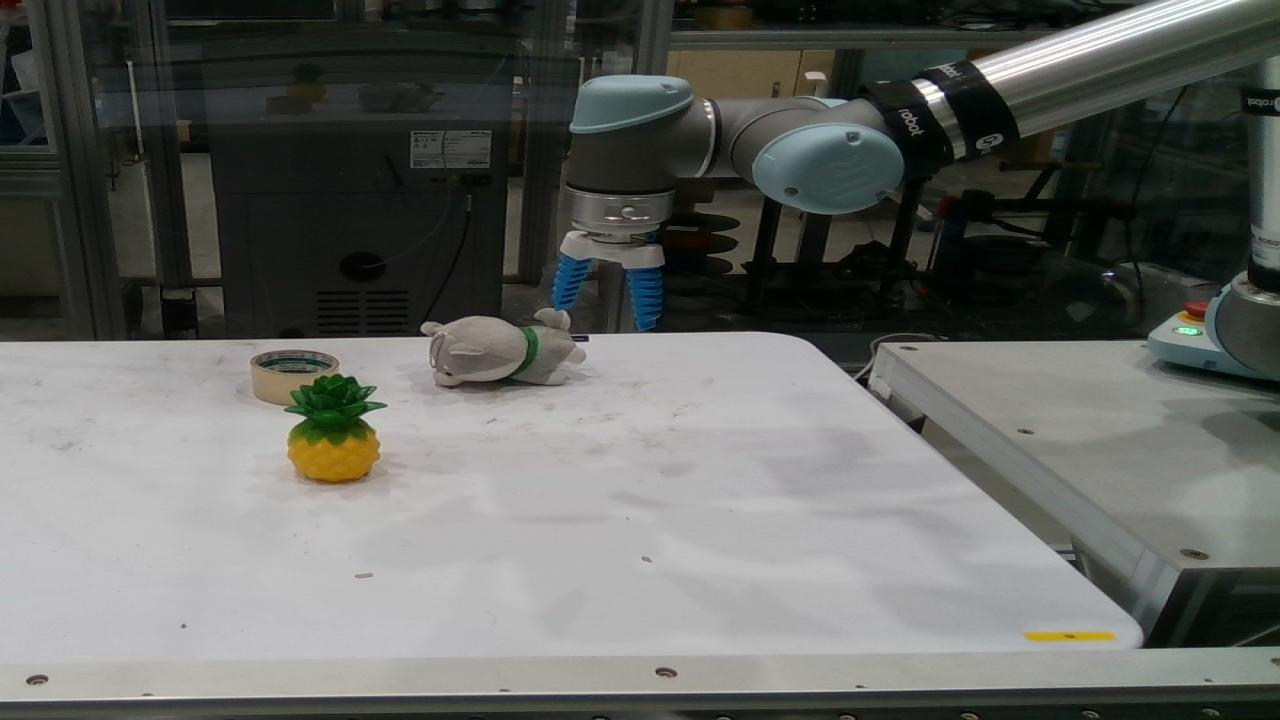UR5: (560, 0, 1279, 380)
gripper_left: (551, 254, 590, 308)
gripper_right: (627, 266, 662, 330)
target: (421, 308, 587, 388), (283, 373, 390, 482), (250, 349, 340, 405)
